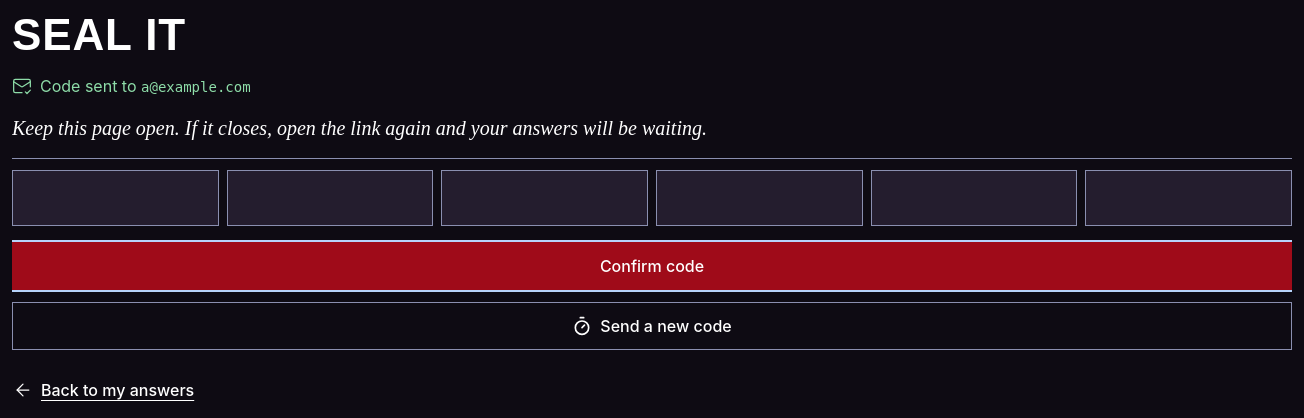
Test: CodeView timing (computed from timestamps) › a resend that the backend rate-limits uses retryAfterMs for the countdown
Click the button "Send a new code" at (652, 326), box [12,302,1292,350]
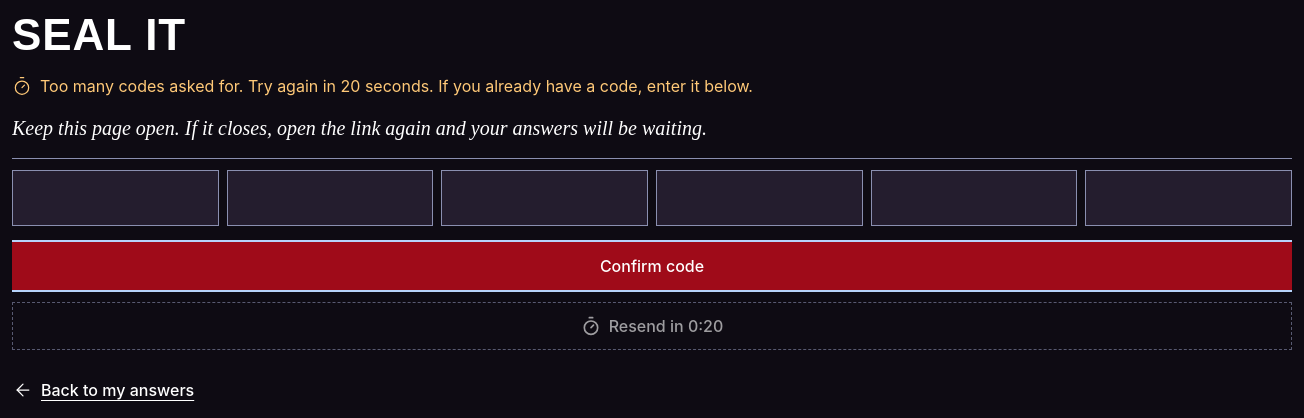
Now the text "Try again in 20 seconds" is shown, box [40,76,753,96]
Now the button "Resend in 0:20" is disabled, box [12,302,1292,350]
